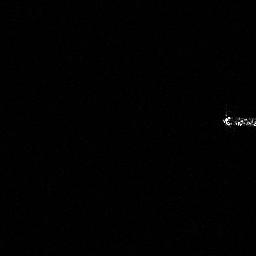ship: (220, 112, 256, 130)
